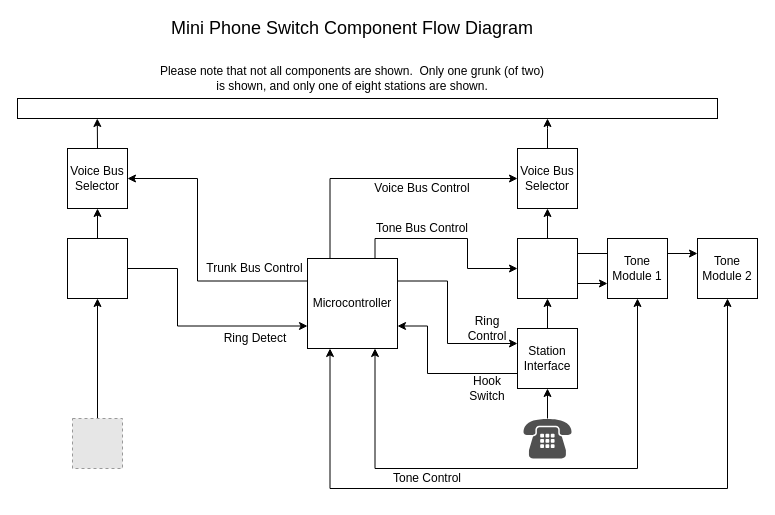
This 775x515 diagram has some shape labels left out. Grey dashed boxes stand in for pictures. The shapes that lost their labels are listed below. From the top down, each one's centre as x and y in pixels, then its label:
(x=367, y=108): Voice Buses 1, 2
(x=97, y=268): Trunk Interface
(x=547, y=268): Tone Bus Selector
